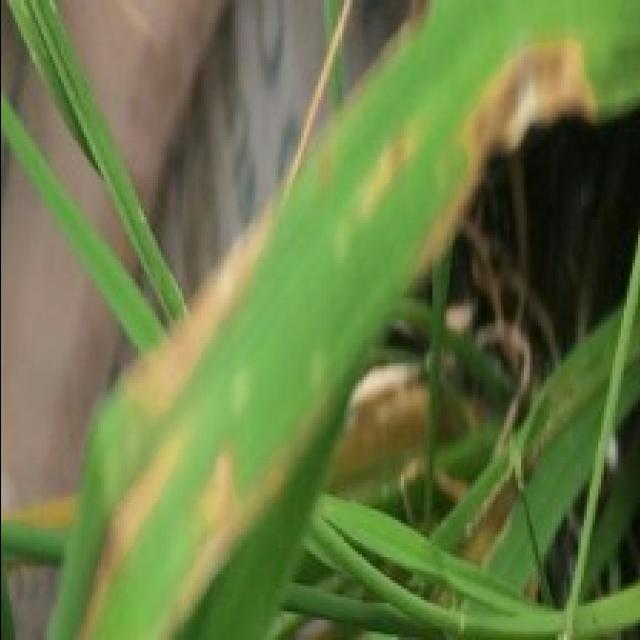Unhealthy: (152, 337, 335, 639), (406, 34, 600, 274), (111, 203, 277, 423), (67, 416, 190, 640), (342, 118, 424, 255)
